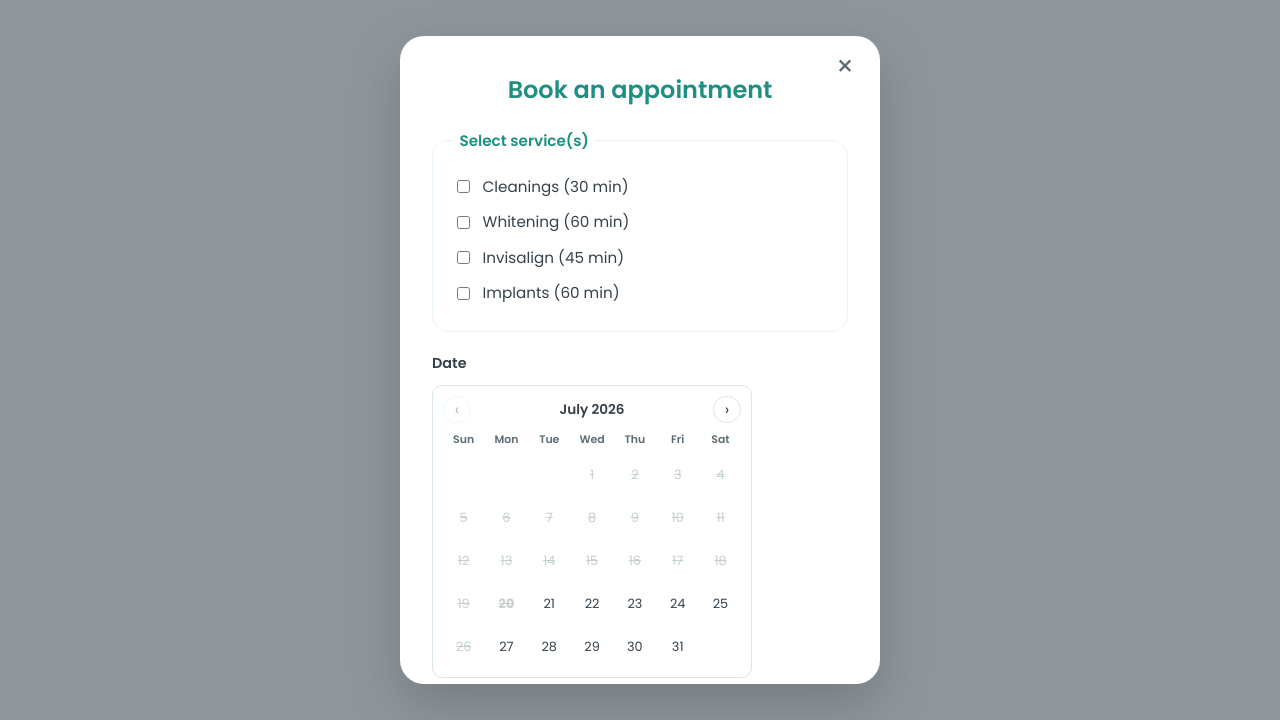
Scenario: BookingModal › shows the running total appointment time when a service is selected
Click the checkbox labelled "Cleanings (30 min)" at (464, 187), box x1=457 y1=180 x2=470 y2=193
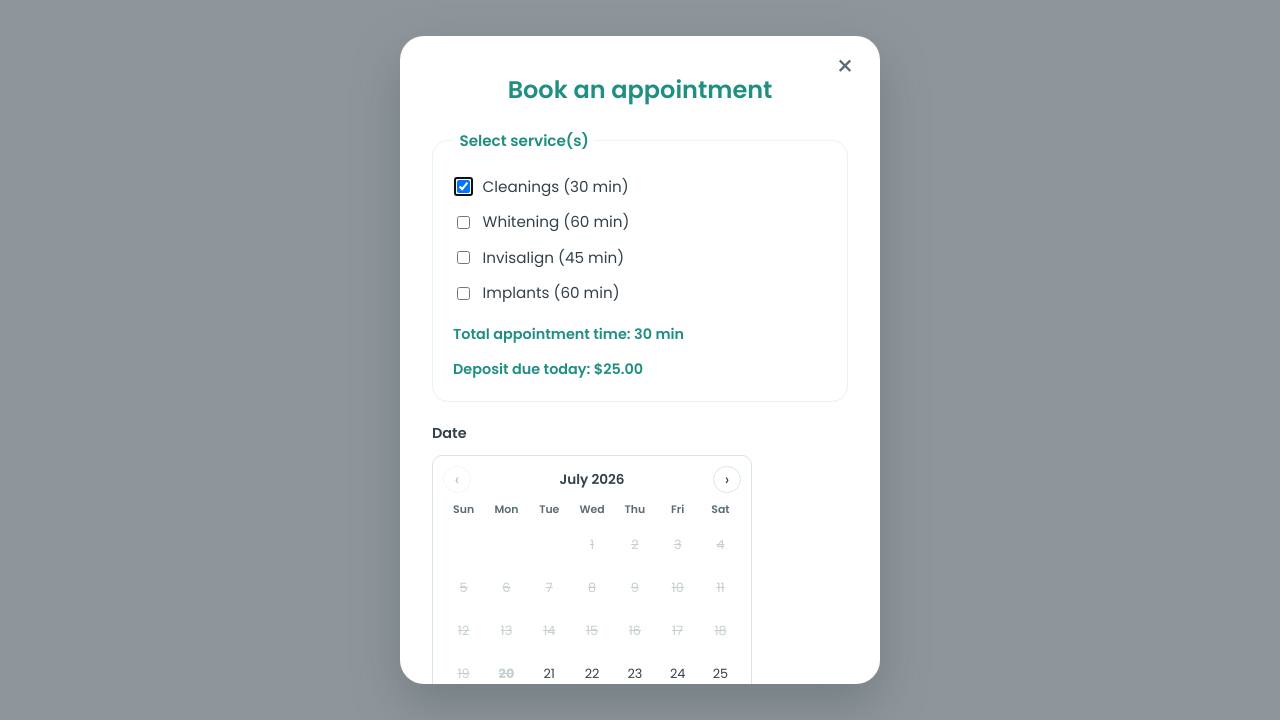
Now the text "Total appointment time: 30 min" is shown, box x1=453 y1=324 x2=684 y2=344
